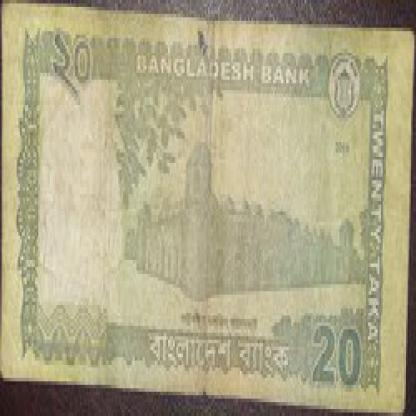Twenty: (305, 302, 366, 406), (47, 24, 107, 118)
